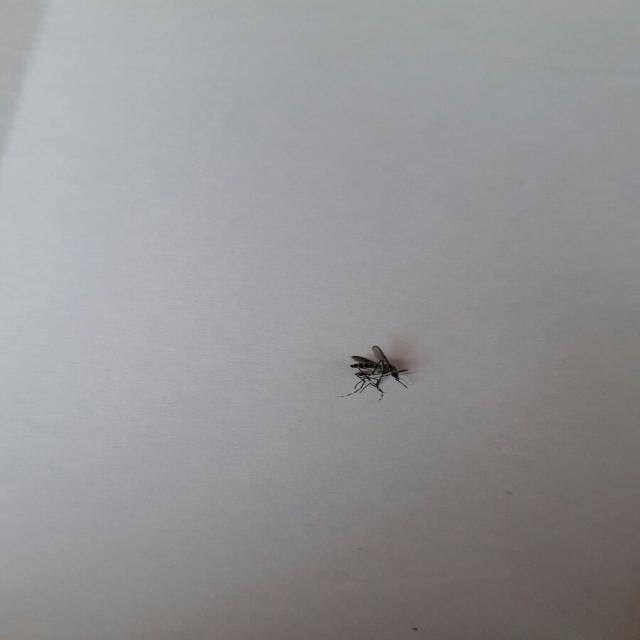albopictus: (331, 342, 422, 403)
